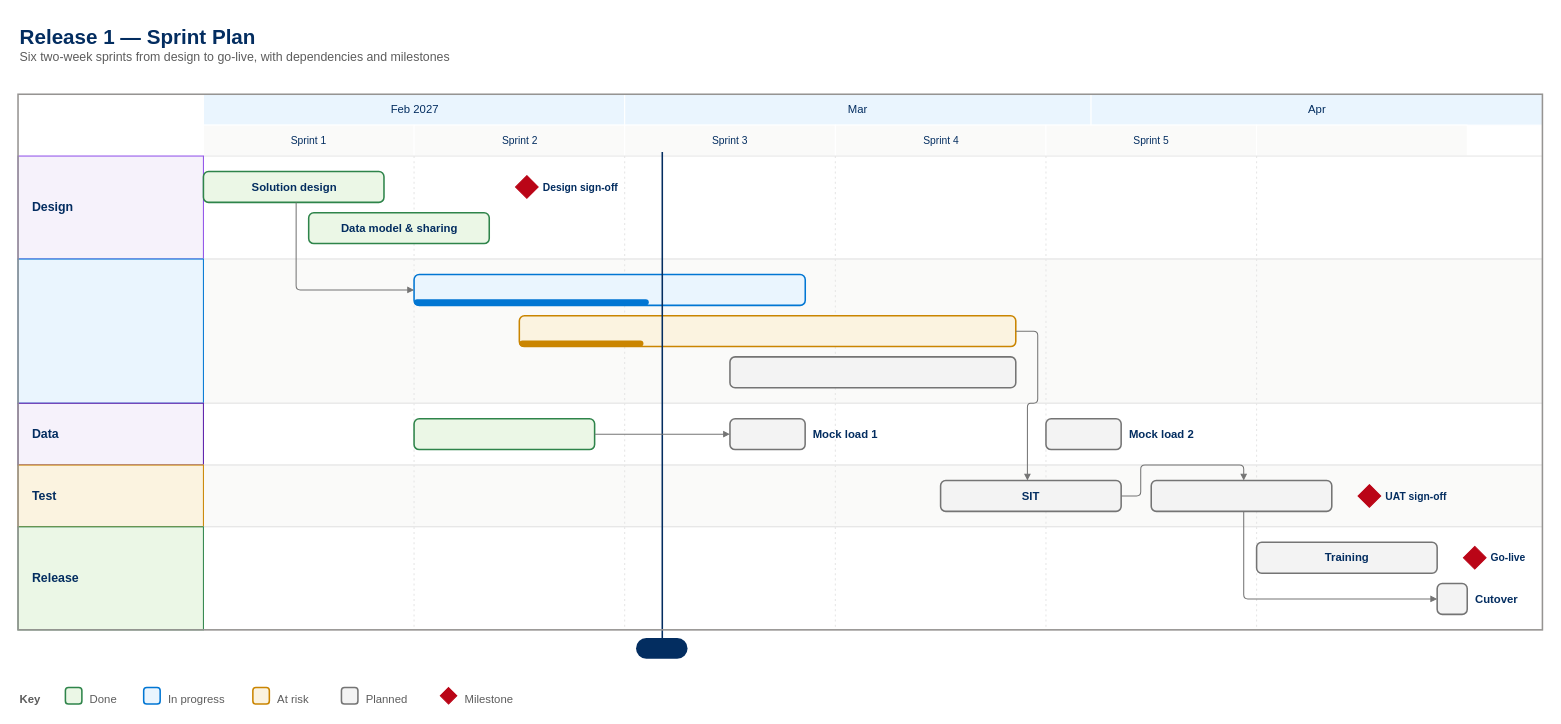
Some shapes in this 1561 by 724 pixel diagram are drawn without their labels. Each missing label, with the box of its shape:
Agentforce topics: (729, 356, 1016, 388)
Build: (17, 258, 203, 403)
Core configuration: (413, 273, 806, 306)
ERP integration: (518, 314, 1016, 347)
Mapping: (413, 417, 595, 450)
Sprint 6: (1256, 124, 1467, 156)
Today: (636, 638, 687, 658)
UAT: (1150, 479, 1332, 512)
